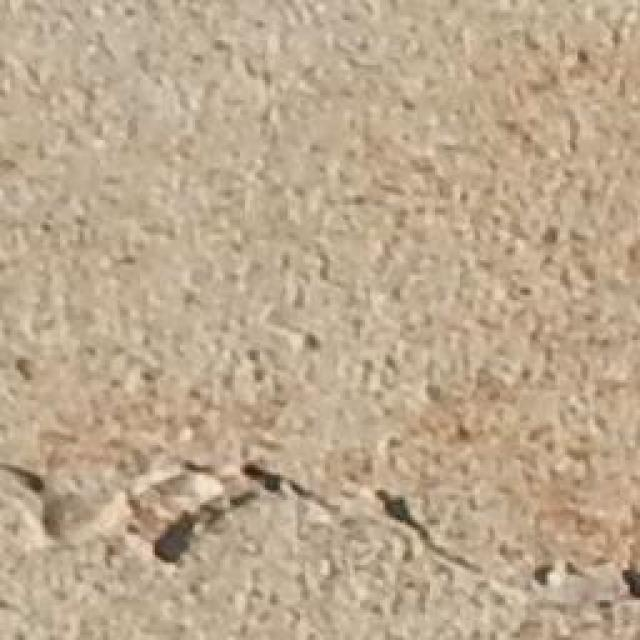concrete-crack: (148, 451, 350, 572), (360, 475, 479, 570)
